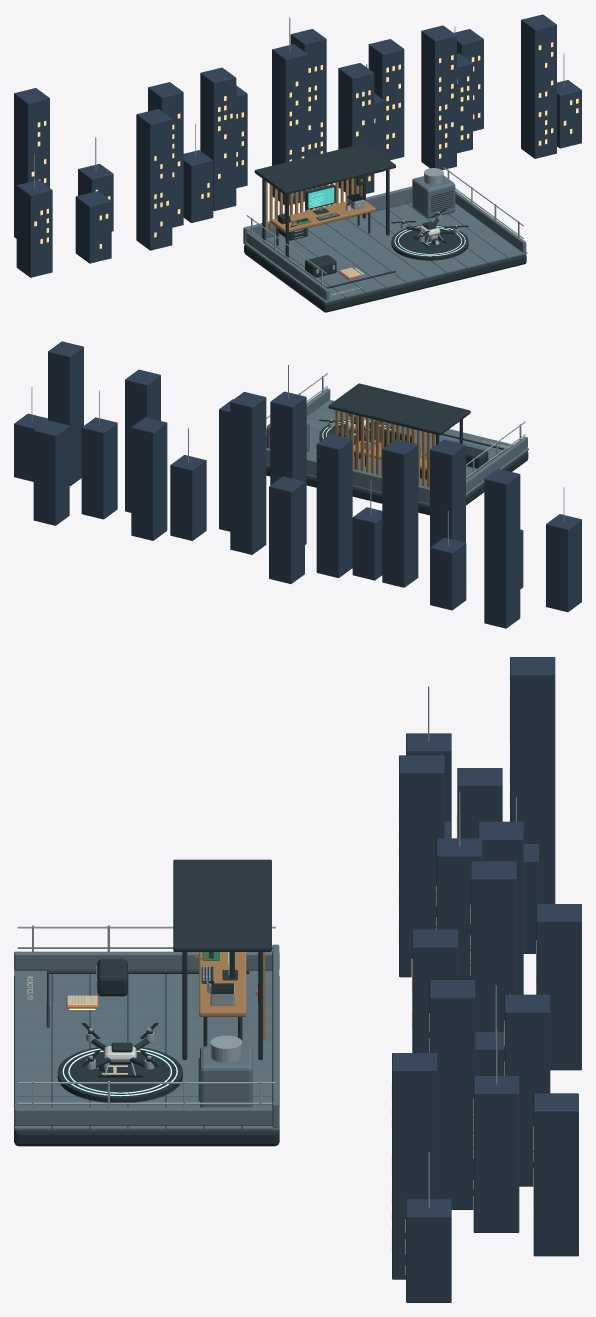
Rendered from workshop.glb.
3 renders of one model, top to bottom at view 1: azimuth 30°, elevation 25°; view 2: azimuth 150°, elevation 25°; view 3: azimuth 270°, elevation 25°, orthographic. The views are drawn at different scales.
Parts seen in each view (by area): view 1: architecture_Distant blue architecture, architecture_Blue grey concrete, architecture_Powder coated graphite, architecture_Distant warm windows, architecture_Brushed aluminium, architecture_Warm birch, bench_Warm birch, bench_Powder coated graphite, monitor_Terminal phosphor; view 2: architecture_Distant blue architecture, architecture_Powder coated graphite, architecture_Blue grey concrete, architecture_Warm birch, architecture_Brushed aluminium; view 3: architecture_Distant blue architecture, architecture_Blue grey concrete, architecture_Powder coated graphite, architecture_Brushed aluminium, bench_Warm birch, architecture_Distant warm windows.
Boxes of the visible parts, x1,y1,x2,y2 form: architecture_Distant blue architecture: [14, 14, 581, 277]; architecture_Blue grey concrete: [243, 175, 527, 303]; architecture_Powder coated graphite: [244, 143, 526, 312]; architecture_Distant warm windows: [31, 42, 578, 248]; architecture_Brushed aluminium: [34, 17, 564, 286]; architecture_Warm birch: [265, 177, 362, 229]; bench_Warm birch: [270, 200, 375, 233]; bench_Powder coated graphite: [276, 212, 370, 245]; monitor_Terminal phosphor: [308, 187, 334, 208]; architecture_Distant blue architecture: [14, 341, 581, 628]; architecture_Powder coated graphite: [266, 383, 528, 515]; architecture_Blue grey concrete: [266, 388, 528, 505]; architecture_Warm birch: [335, 410, 435, 487]; architecture_Brushed aluminium: [31, 365, 564, 545]; architecture_Distant blue architecture: [392, 657, 581, 1302]; architecture_Blue grey concrete: [14, 944, 279, 1130]; architecture_Powder coated graphite: [14, 859, 279, 1146]; architecture_Brushed aluminium: [17, 686, 516, 1207]; bench_Warm birch: [199, 952, 246, 1016]; architecture_Distant warm windows: [391, 700, 536, 1274].
Bounding box in the file's own units: 27.2 × 8.53 × 14.97.
